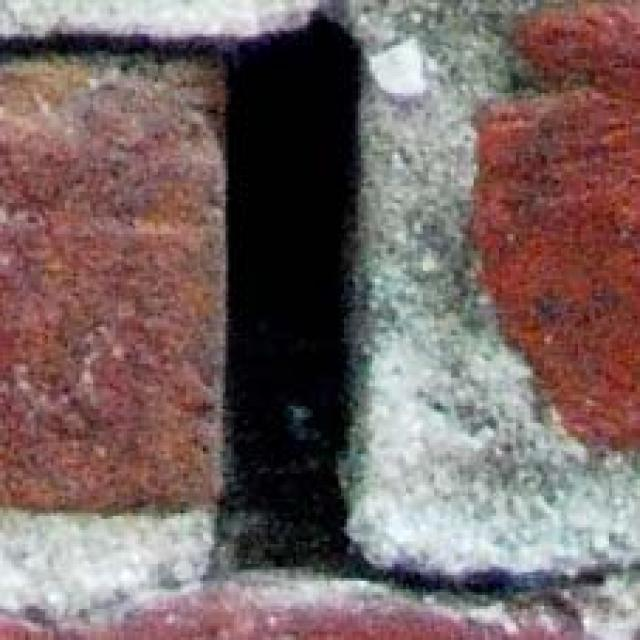Crack: (155, 4, 640, 640)
